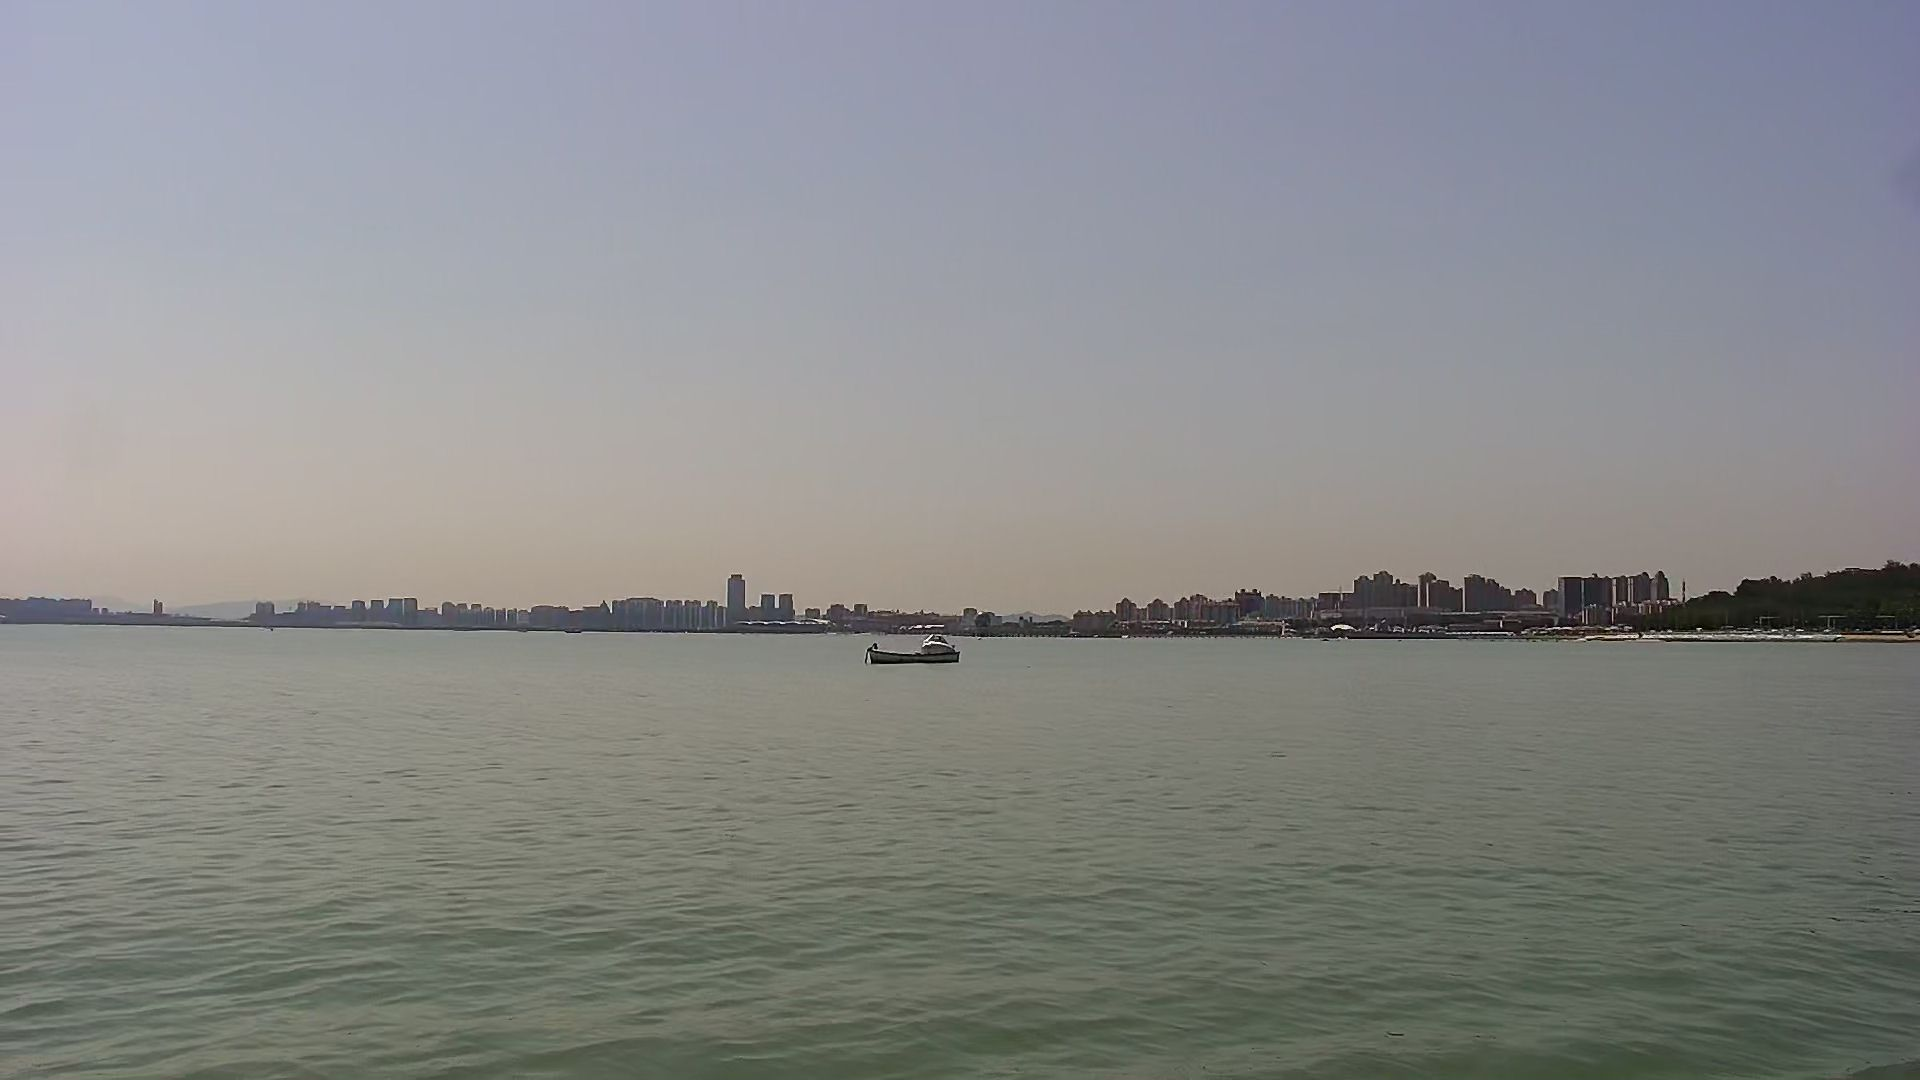boat: (858, 634, 969, 669)
